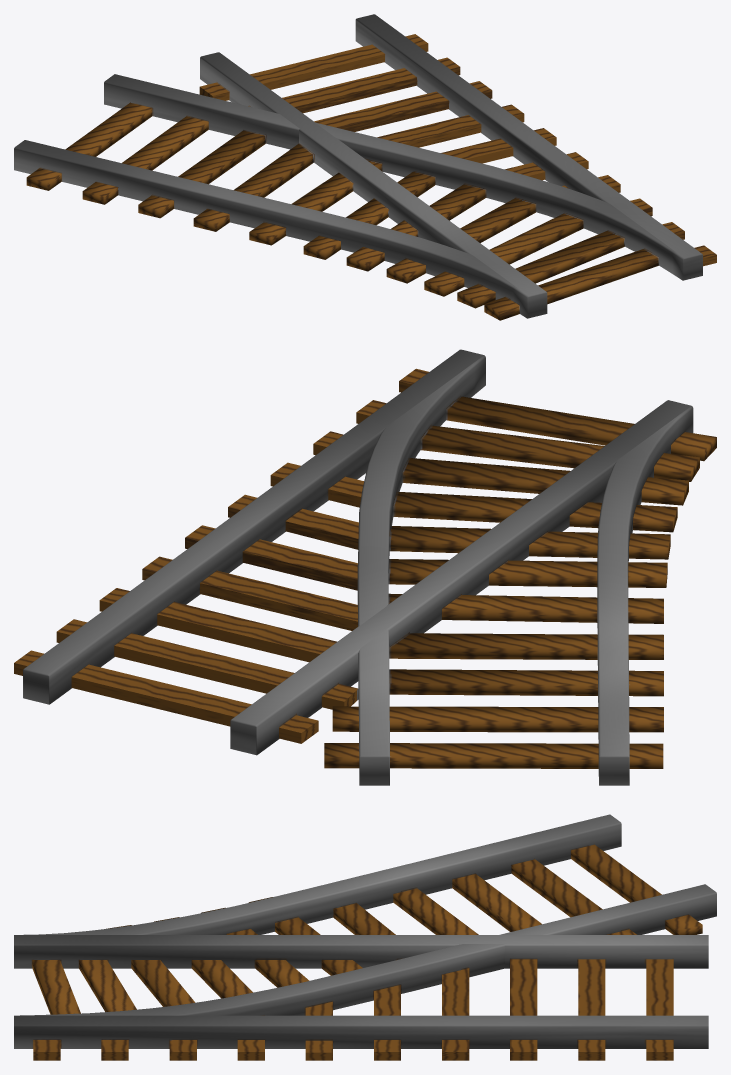
File: BifurcationLeftRail.fbx
The picture shows the model from 3 angles, top to bottom: view 1: azimuth 30°, elevation 25°; view 2: azimuth 150°, elevation 25°; view 3: azimuth 270°, elevation 25°; orthographic projection. The views are drawn at different scales.
Parts seen in each view (by area): view 1: BifurcationLeftRail; view 2: BifurcationLeftRail; view 3: BifurcationLeftRail.
Boxes of the visible parts, x1,y1,x2,y2 form: BifurcationLeftRail: (14,14,716,320); BifurcationLeftRail: (14,349,716,785); BifurcationLeftRail: (14,814,716,1060).
Size of the model in its own units: 394 by 19.3 by 516.
